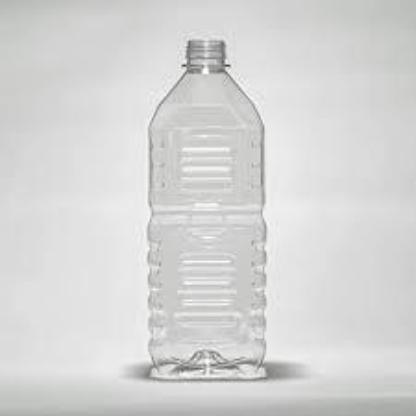Plastic Bottle: (150, 40, 268, 380)
